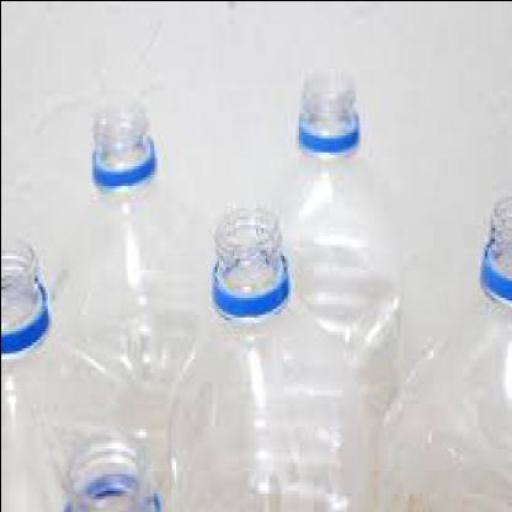plastic: (159, 201, 378, 509), (52, 101, 210, 428), (274, 67, 400, 417), (375, 193, 510, 510), (1, 234, 118, 511), (52, 425, 164, 509)
